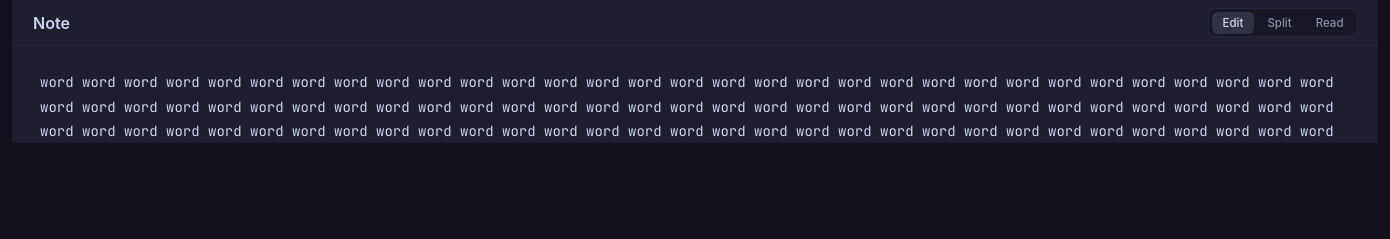
Find bar (#547) › still counts and jumps on a note too large to highlight
Step 1. Press f
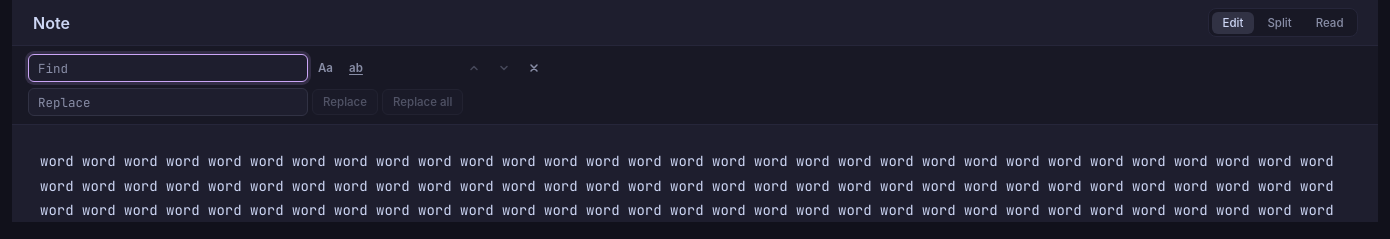
Step 2. Type "needle" into the field labelled "Find" → [168, 68], box [28, 54, 308, 82]
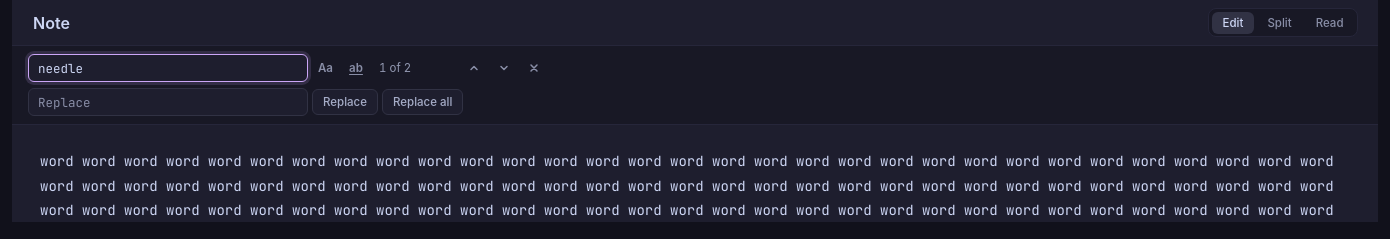
Expected: the text with class "find-bar-count" reads "1 of 2", [379, 61, 411, 75]
Step 3. Press Enter in the field named "Find", box [28, 54, 308, 82]
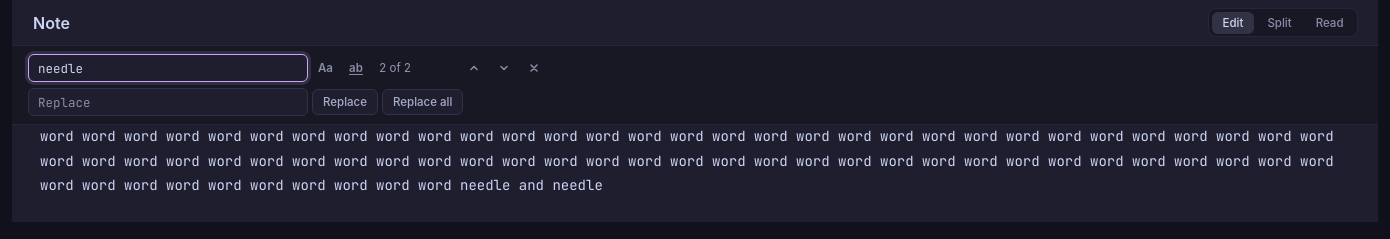
Expected: the text with class "find-bar-count" reads "2 of 2", [379, 61, 411, 75]
